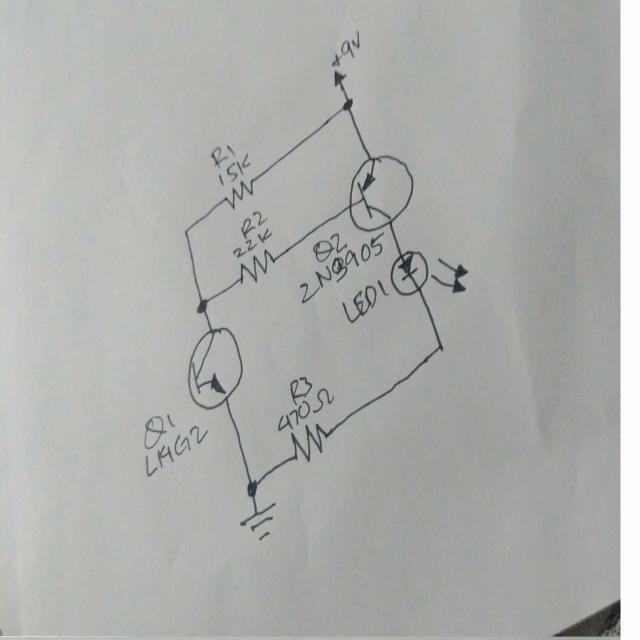diode: (388, 247, 470, 298)
ground: (239, 498, 279, 542)
junction: (196, 297, 209, 317), (246, 478, 259, 498), (341, 95, 354, 115), (182, 226, 192, 240), (437, 339, 446, 354)
resistor: (290, 420, 330, 464), (238, 246, 276, 287), (222, 175, 257, 211)
source: (330, 66, 349, 90)
text: (298, 230, 385, 305), (142, 412, 209, 479), (274, 372, 336, 432), (341, 275, 388, 325), (230, 209, 270, 256), (209, 142, 249, 186), (328, 25, 363, 65)
transistor: (346, 148, 416, 234), (184, 323, 245, 413)
